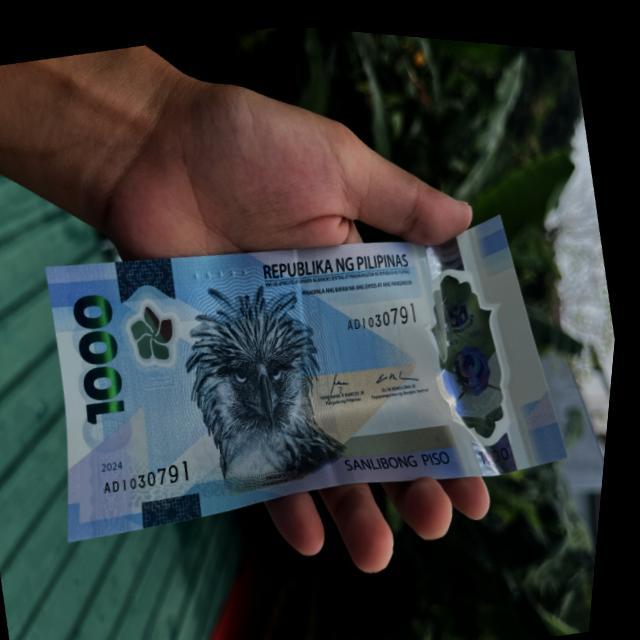clear_window: (397, 201, 558, 483)
eagle: (169, 255, 365, 497)
sampaguita: (118, 288, 201, 397)
security_thread: (297, 239, 364, 482)
serial_number: (103, 448, 199, 500), (345, 287, 424, 330)
